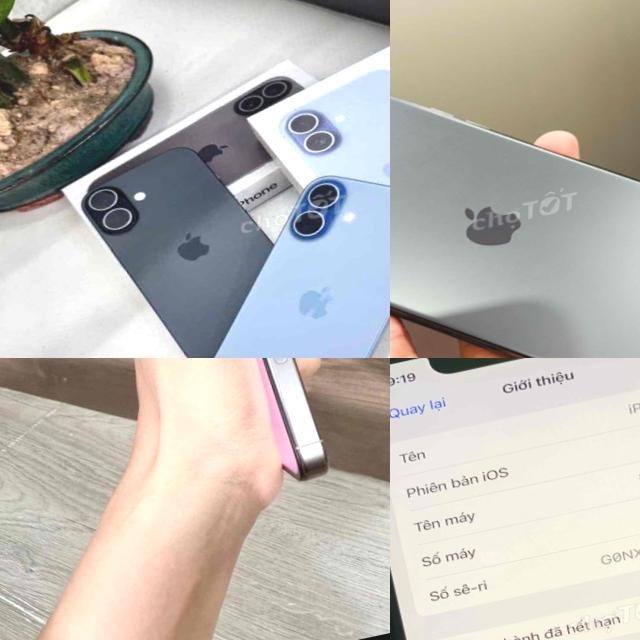gen_11: (390, 0, 640, 358)
gen_15: (152, 358, 355, 498)
gen_17: (215, 175, 390, 358)
gen_x_xs: (390, 358, 640, 640)
